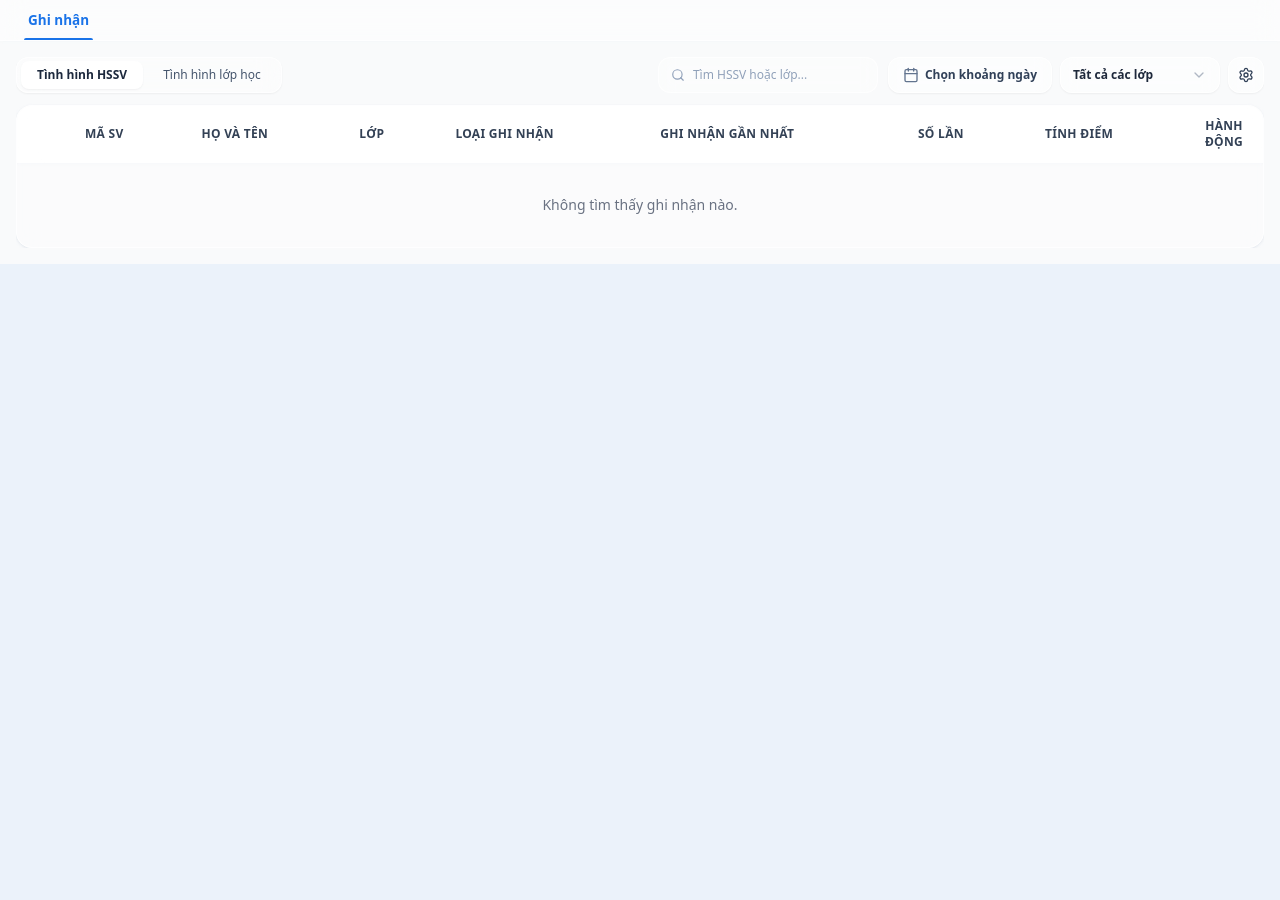
Test: StudentRecordPage Infinite Scroll › hides student import when create permission is absent
What coordinates should you click on to do the following:
click the button titled "Cấu hình tiêu chí vắng mặt"
I would click on:
 (1246, 75)
Its box is x1=1228 y1=57 x2=1264 y2=93.
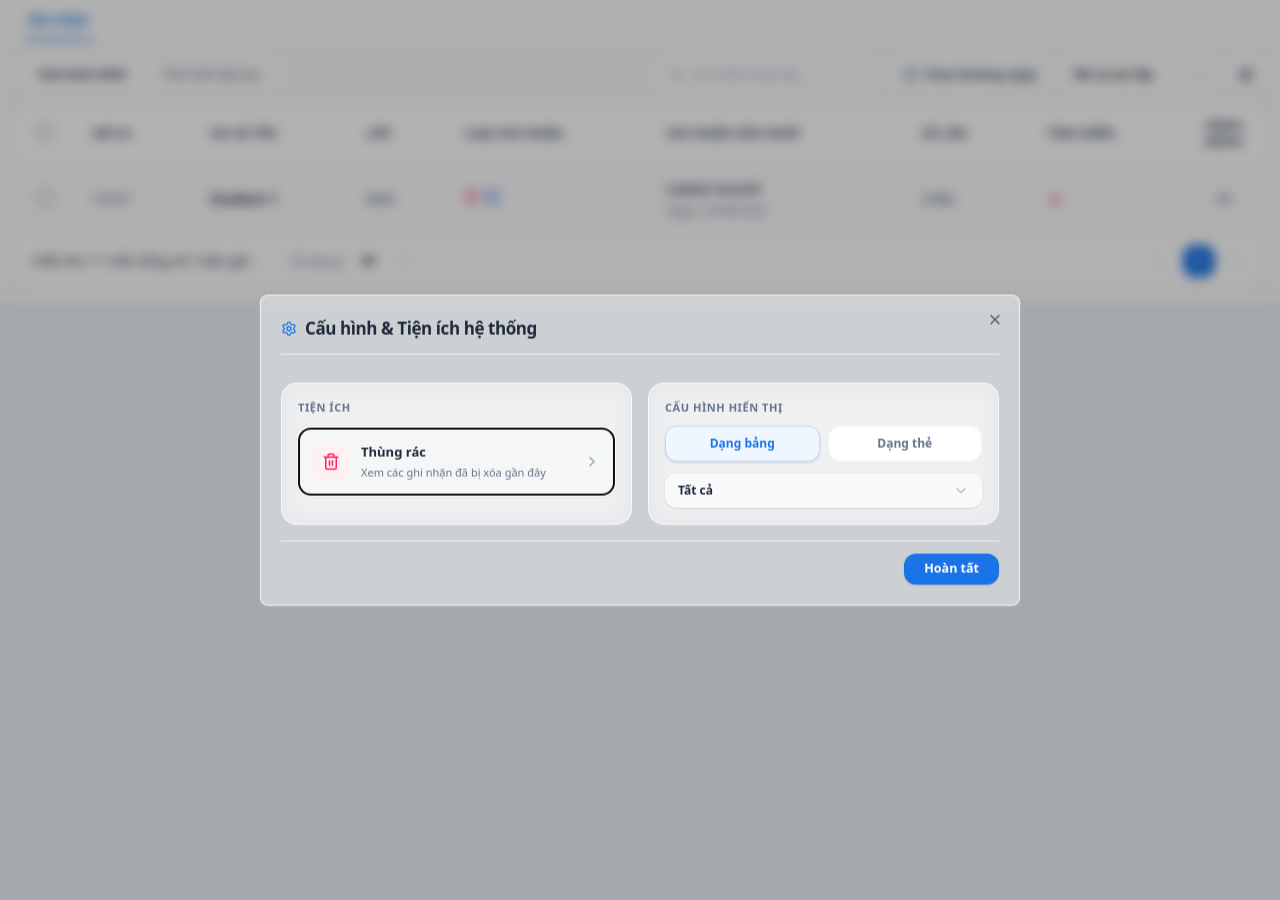
expect the heading "Cấu hình & Tiện ích hệ thống" is shown: met, box x1=281 y1=316 x2=999 y2=354
expect the text "Thùng rác" is shown: met, box x1=361 y1=443 x2=426 y2=461
